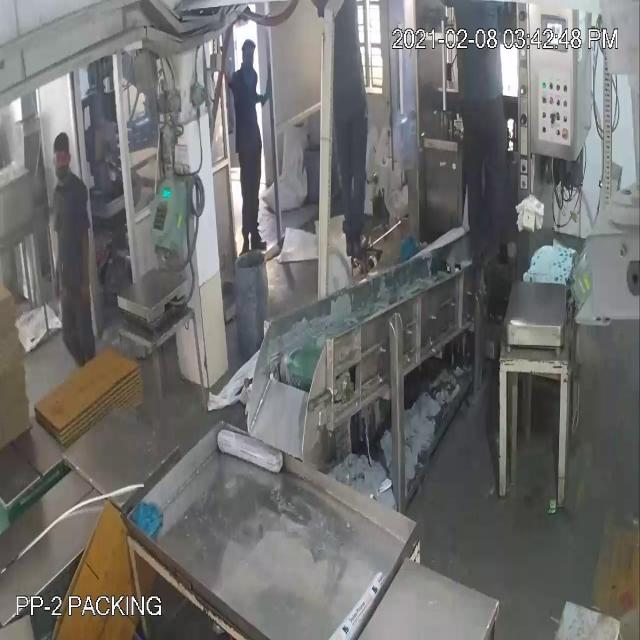No_Gloves: (70, 213, 100, 319)
